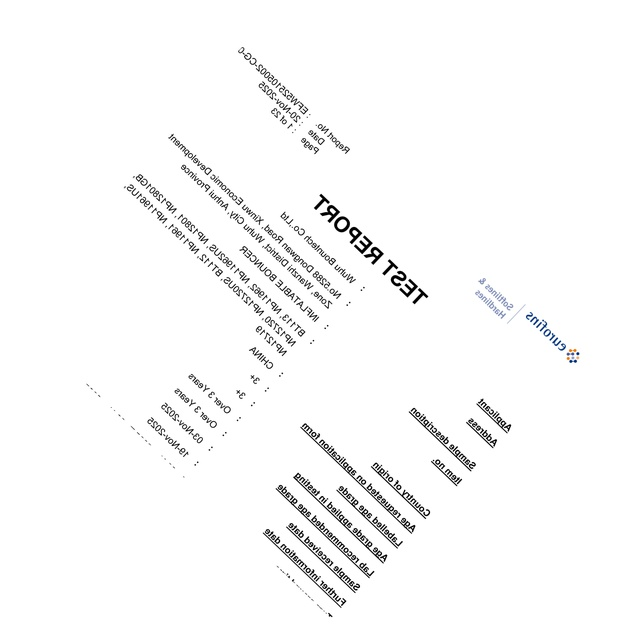eurofins: (524, 307, 592, 374)
